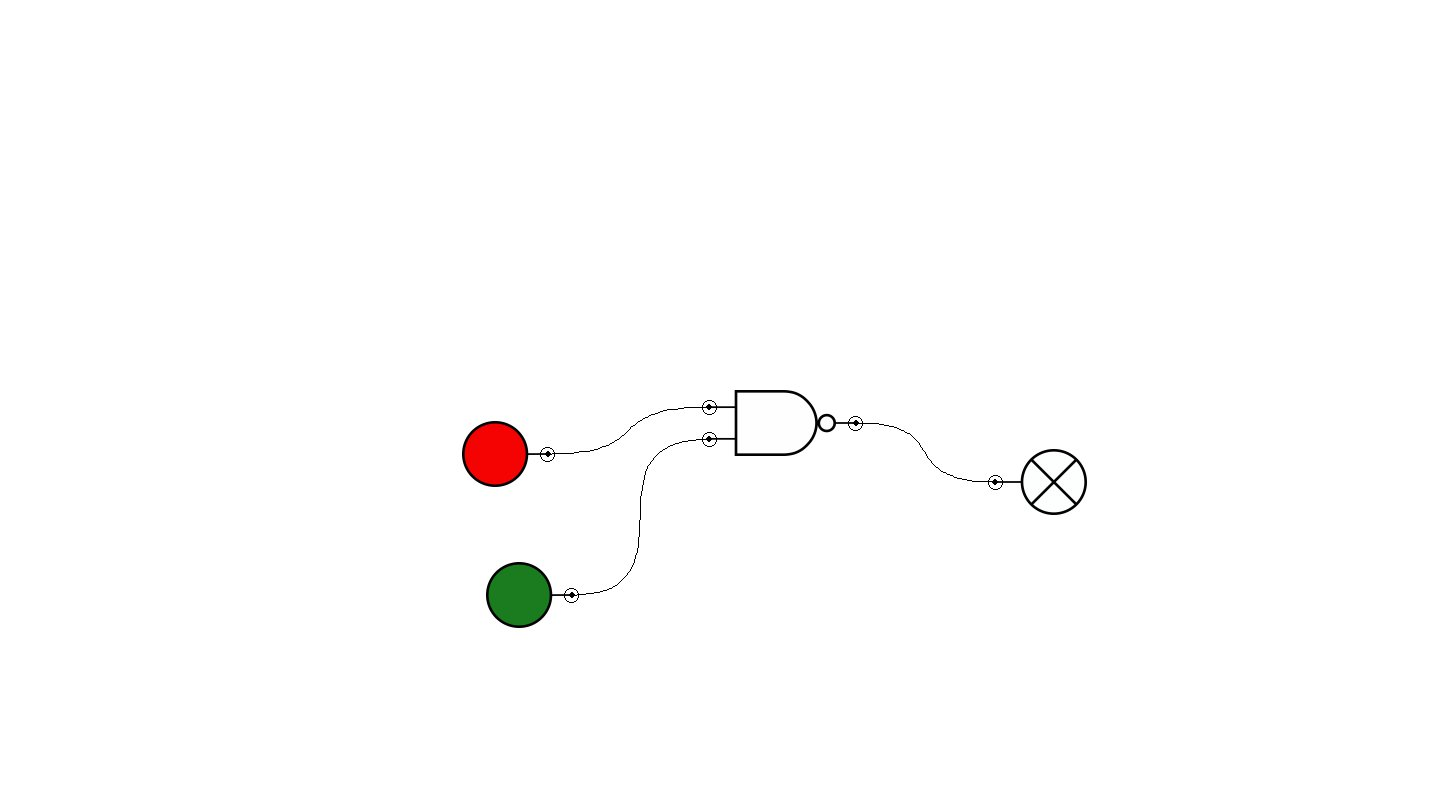bulb: (988, 449, 1087, 515)
nand: (702, 390, 863, 456)
switch_False: (462, 421, 555, 487)
switch_True: (486, 562, 579, 628)
